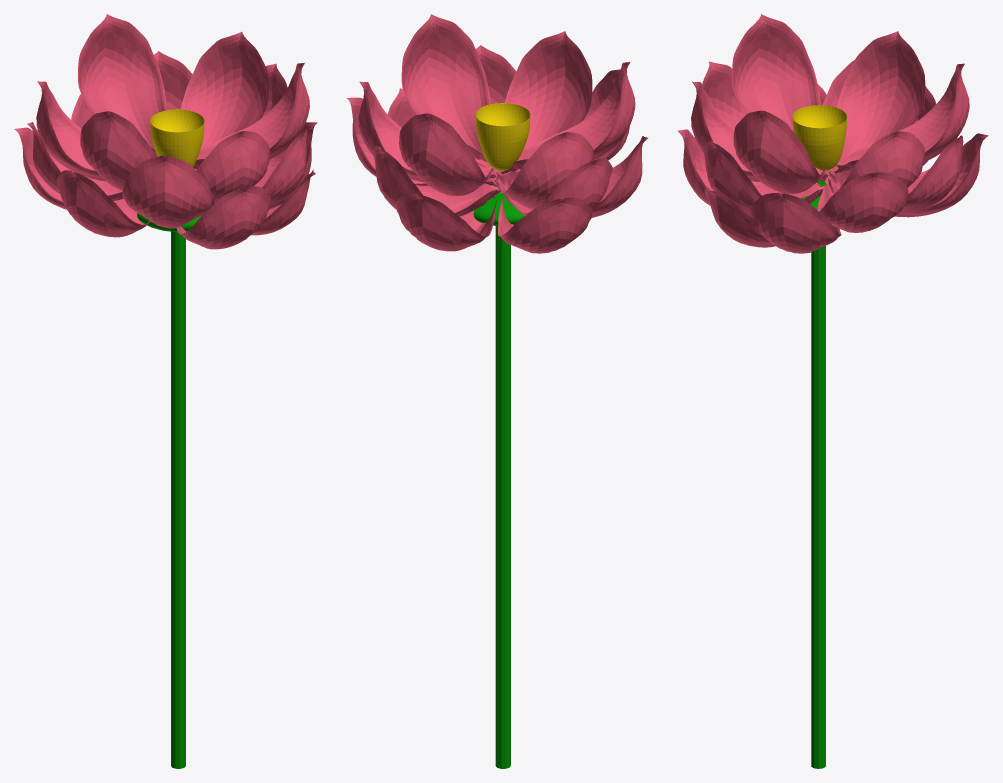
The model's file is Lotus098.fbx.
3 renders of one model, left to right at view 1: azimuth 30°, elevation 25°; view 2: azimuth 150°, elevation 25°; view 3: azimuth 270°, elevation 25°, orthographic.
Visible parts, largest first — view 1: pCylinder1, nurbsToPoly23, nurbsToPoly19, nurbsToPoly16, nurbsToPoly21, nurbsToPoly8, nurbsToPoly18, nurbsToPoly11, nurbsToPoly22, nurbsToPoly20, pSphere3, nurbsToPoly13 (+6 smaller); view 2: pCylinder1, nurbsToPoly22, nurbsToPoly18, nurbsToPoly23, nurbsToPoly20, nurbsToPoly10, nurbsToPoly12, nurbsToPoly21, pSphere3, nurbsToPoly17, nurbsToPoly19, nurbsToPoly14 (+6 smaller); view 3: pCylinder1, nurbsToPoly20, nurbsToPoly21, nurbsToPoly22, nurbsToPoly15, nurbsToPoly9, nurbsToPoly23, nurbsToPoly19, pSphere3, nurbsToPoly13, nurbsToPoly17, nurbsToPoly18 (+5 smaller).
Part boxes in pixels (x1,y1,x2,y2): pCylinder1: (171, 231, 185, 768); nurbsToPoly23: (78, 14, 167, 156); nurbsToPoly19: (180, 32, 268, 147); nurbsToPoly16: (122, 155, 214, 228); nurbsToPoly21: (80, 111, 155, 190); nurbsToPoly8: (176, 186, 270, 249); nurbsToPoly18: (196, 131, 269, 203); nurbsToPoly11: (57, 170, 150, 237); nurbsToPoly22: (193, 63, 309, 169); nurbsToPoly20: (36, 81, 106, 181); pSphere3: (150, 109, 204, 166); nurbsToPoly13: (254, 129, 307, 205); pCylinder1: (495, 226, 510, 768); nurbsToPoly22: (401, 14, 490, 162); nurbsToPoly18: (494, 31, 592, 173); nurbsToPoly23: (399, 113, 494, 196); nurbsToPoly20: (494, 132, 593, 208); nurbsToPoly10: (395, 192, 500, 251); nurbsToPoly12: (498, 191, 591, 253); nurbsToPoly21: (510, 62, 635, 169); pSphere3: (475, 103, 530, 170); nurbsToPoly17: (373, 146, 501, 216); nurbsToPoly19: (358, 81, 499, 182); nurbsToPoly14: (492, 158, 612, 215); pCylinder1: (811, 245, 825, 768); nurbsToPoly20: (827, 31, 925, 173); nurbsToPoly21: (732, 14, 820, 131); nurbsToPoly22: (733, 110, 826, 193); nurbsToPoly15: (817, 172, 908, 232); nurbsToPoly9: (749, 192, 841, 253); nurbsToPoly23: (836, 63, 969, 169); nurbsToPoly19: (826, 131, 924, 192); pSphere3: (792, 105, 846, 170); nurbsToPoly13: (703, 141, 824, 215); nurbsToPoly17: (825, 135, 963, 214); nurbsToPoly18: (691, 81, 831, 181).
Bounding box in the file's own units: 19 × 50.45 × 20.25.
